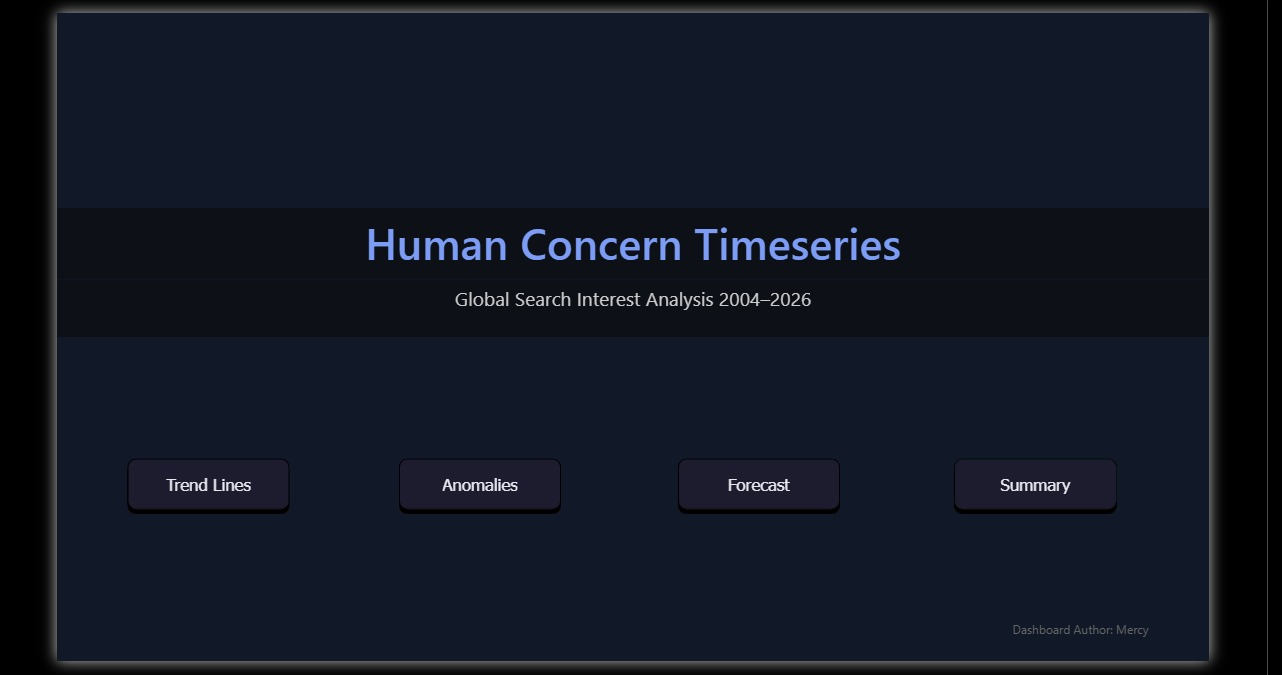

The page's visual inventory and layout, read from the dashboard file:
{"tool":"powerbi","page":{"name":"Navigation","canvas":[1280,720],"ordinal":0},"visuals":[{"type":"textbox","box":[0,216.3,1280.4,79.5],"z":0},{"type":"textbox","box":[0,295.9,1280.4,63.6],"z":1000},{"type":"actionButton","box":[685.6,489.9,190,66.8],"z":2000},{"type":"actionButton","box":[375.4,489.9,190,66.8],"z":3000},{"type":"actionButton","box":[73.2,489.9,190,66.8],"z":4000},{"type":"actionButton","box":[991,489.9,190.9,66.8],"z":5000},{"type":"textbox","box":[1056.2,669.6,203.6,39.8],"z":6000}]}

Visuals, with their boxes on the page's 1280x720 design canvas (x1, y1, x2, y2). These are canvas units, not pixel positions in the 1282x675 screenshot, which may show the page scaled, cropped or inside an application window:
textbox: [0,216,1280,296]
textbox: [0,296,1280,360]
actionButton: [686,490,876,557]
actionButton: [375,490,565,557]
actionButton: [73,490,263,557]
actionButton: [991,490,1182,557]
textbox: [1056,670,1260,709]
